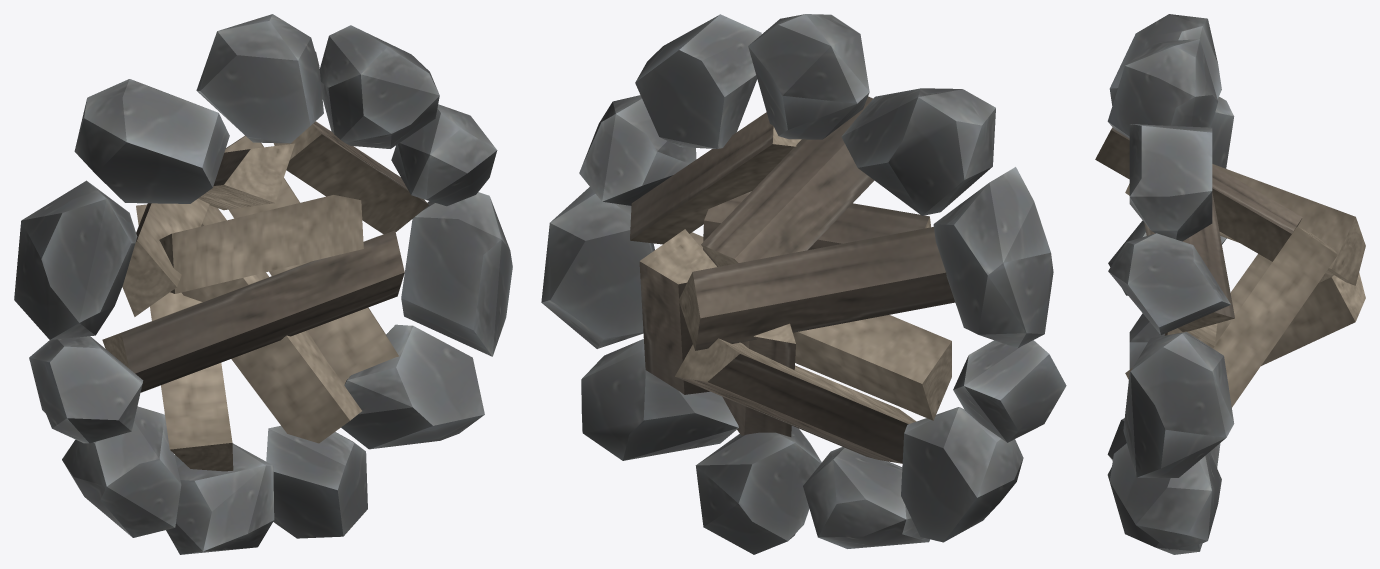
The model's file is FireCamp_B.fbx.
The picture shows the model from 3 angles, left to right: view 1: azimuth 30°, elevation 25°; view 2: azimuth 150°, elevation 25°; view 3: azimuth 270°, elevation 25°; orthographic projection. The views are drawn at different scales.
Parts seen in each view (by area): view 1: FireCamp_B; view 2: FireCamp_B; view 3: FireCamp_B.
Part boxes in pixels (x1,y1,x2,y2): FireCamp_B: [14, 14, 512, 554]; FireCamp_B: [541, 14, 1066, 554]; FireCamp_B: [1095, 14, 1365, 554].
Size of the model in its own units: 2.13 by 2.26 by 1.15.
